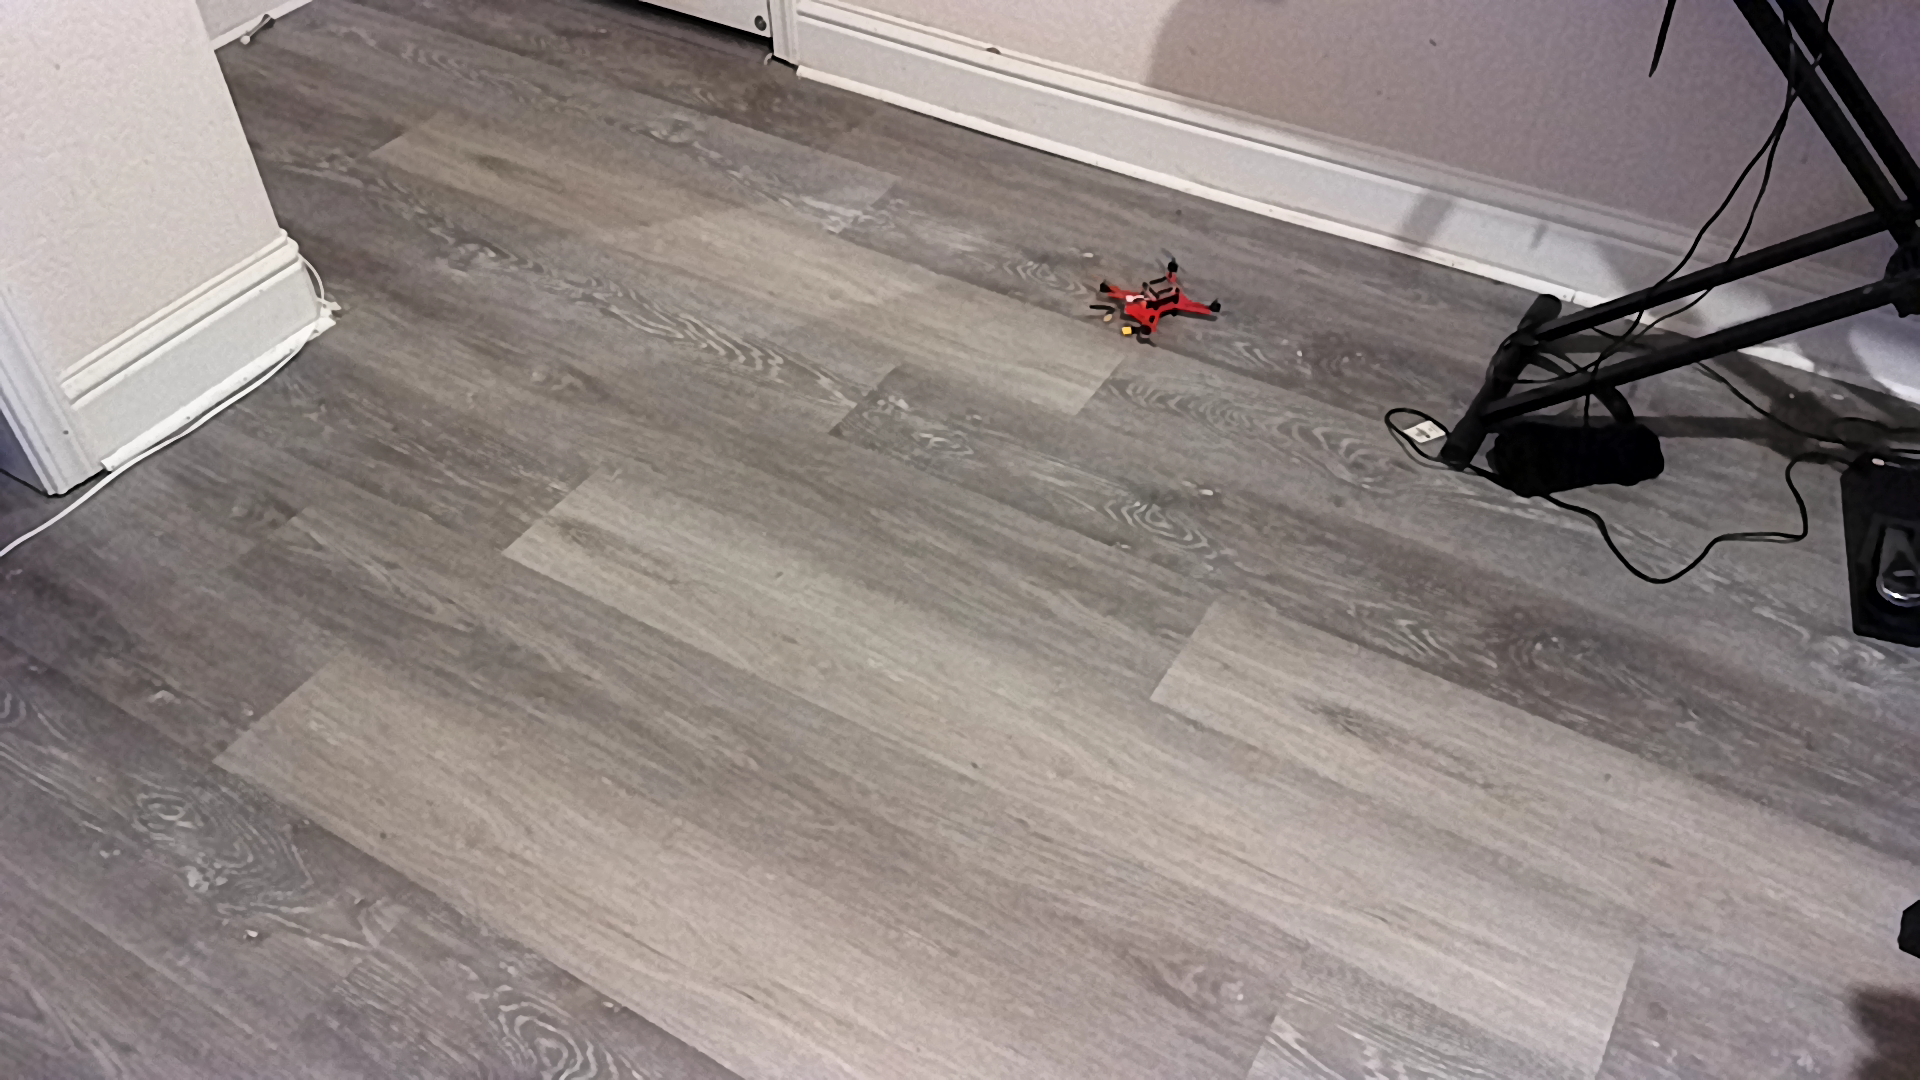drone: (1079, 247, 1249, 359)
